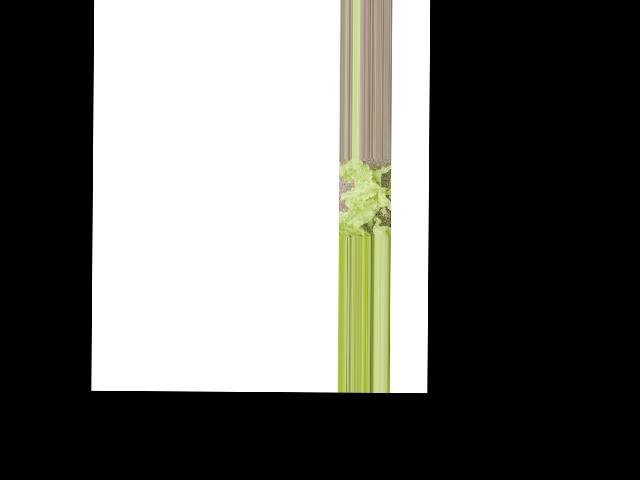lettuce: (341, 159, 394, 237)
